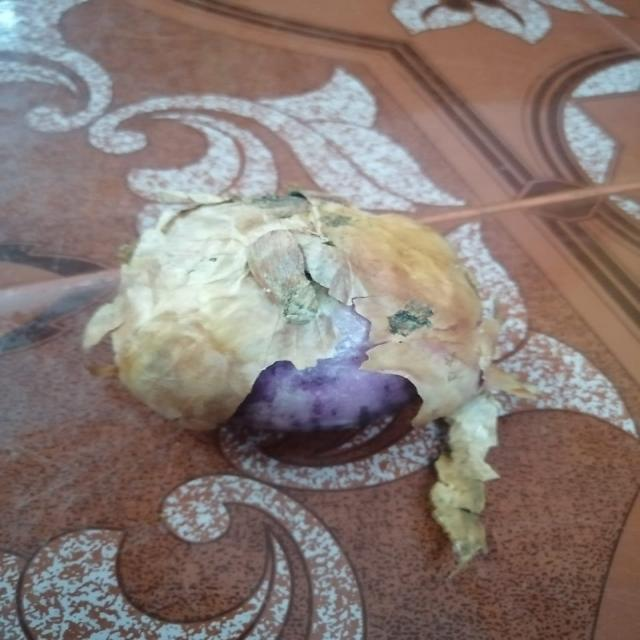rotten: (188, 184, 340, 224)
